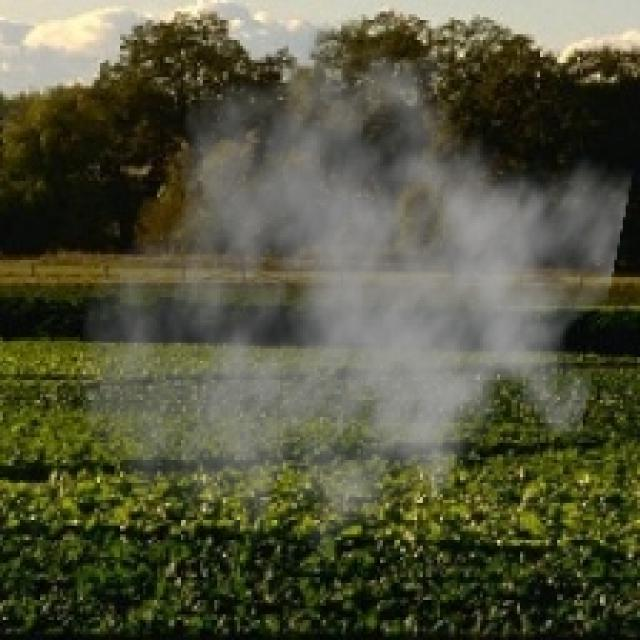smoke: (75, 23, 634, 586)
